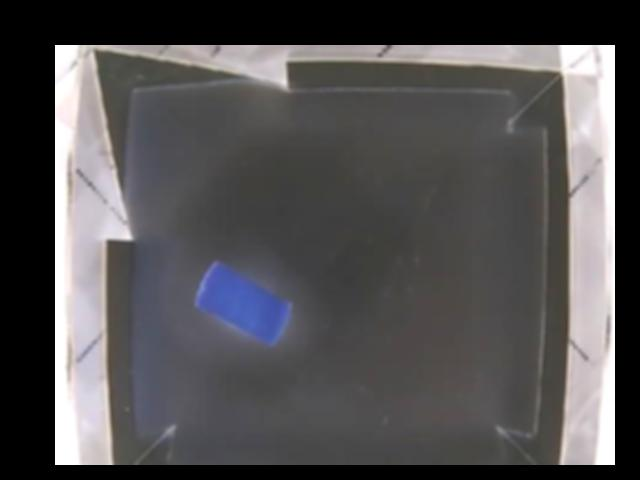Potato: (196, 261, 292, 340)
